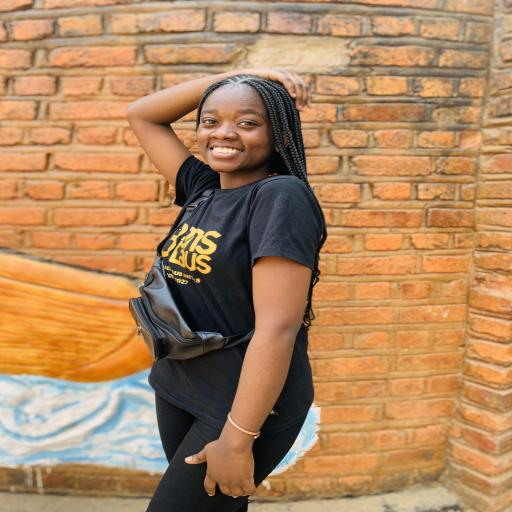LAURENE: (183, 68, 300, 194)
